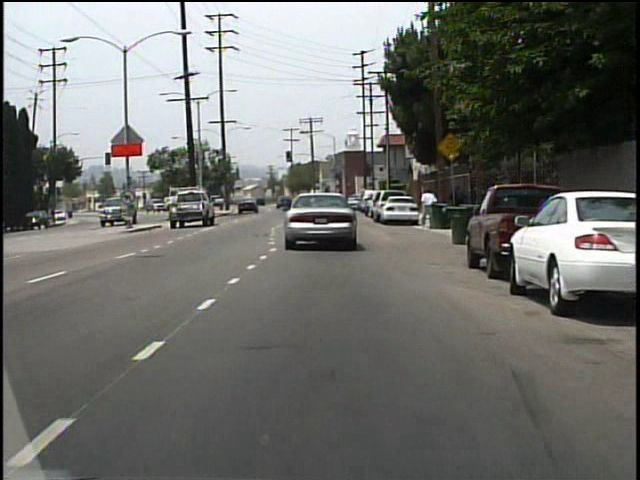person: (420, 186, 435, 230)
